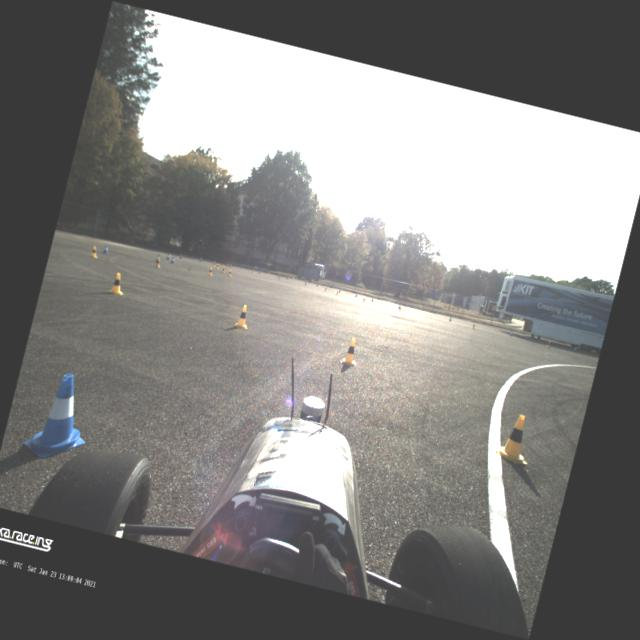blue_cone: (21, 367, 100, 467), (102, 244, 110, 254), (154, 254, 162, 262), (170, 256, 176, 264), (166, 252, 170, 260), (572, 346, 577, 352), (509, 330, 513, 336), (198, 256, 202, 262), (354, 292, 358, 297), (228, 262, 232, 267), (178, 254, 182, 258), (448, 316, 452, 320), (371, 297, 374, 302), (338, 288, 341, 293), (258, 268, 260, 274), (286, 274, 288, 280), (315, 282, 318, 286), (397, 304, 400, 308)
yellow_cone: (494, 410, 538, 466), (340, 336, 362, 366), (233, 303, 252, 330), (108, 272, 128, 296), (90, 245, 100, 258), (154, 257, 162, 268), (206, 266, 214, 276), (226, 268, 232, 278), (545, 340, 551, 348), (221, 266, 226, 273), (215, 262, 219, 270), (323, 286, 328, 292), (471, 322, 475, 329), (212, 260, 216, 267), (251, 268, 255, 274), (335, 290, 339, 296), (362, 296, 366, 302), (226, 262, 230, 268), (398, 306, 402, 312), (304, 280, 306, 286), (278, 274, 280, 278)
